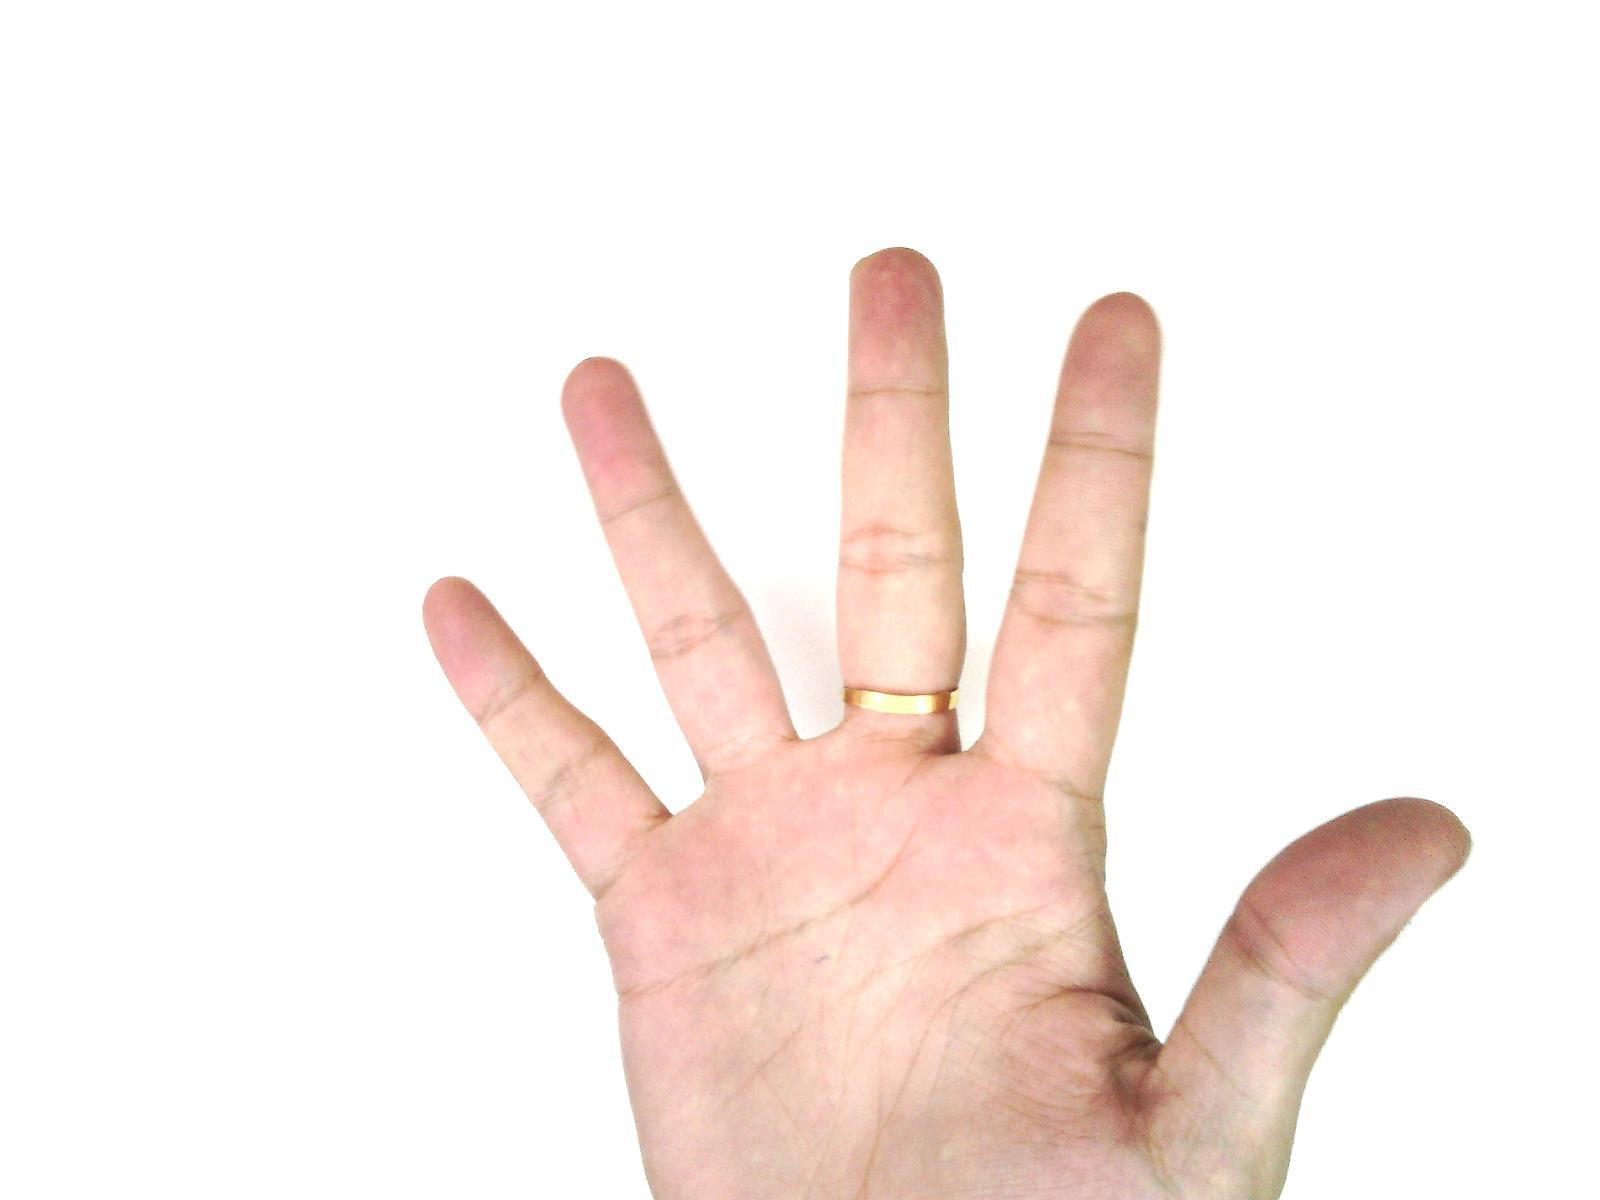hand: (411, 239, 1480, 1197)
